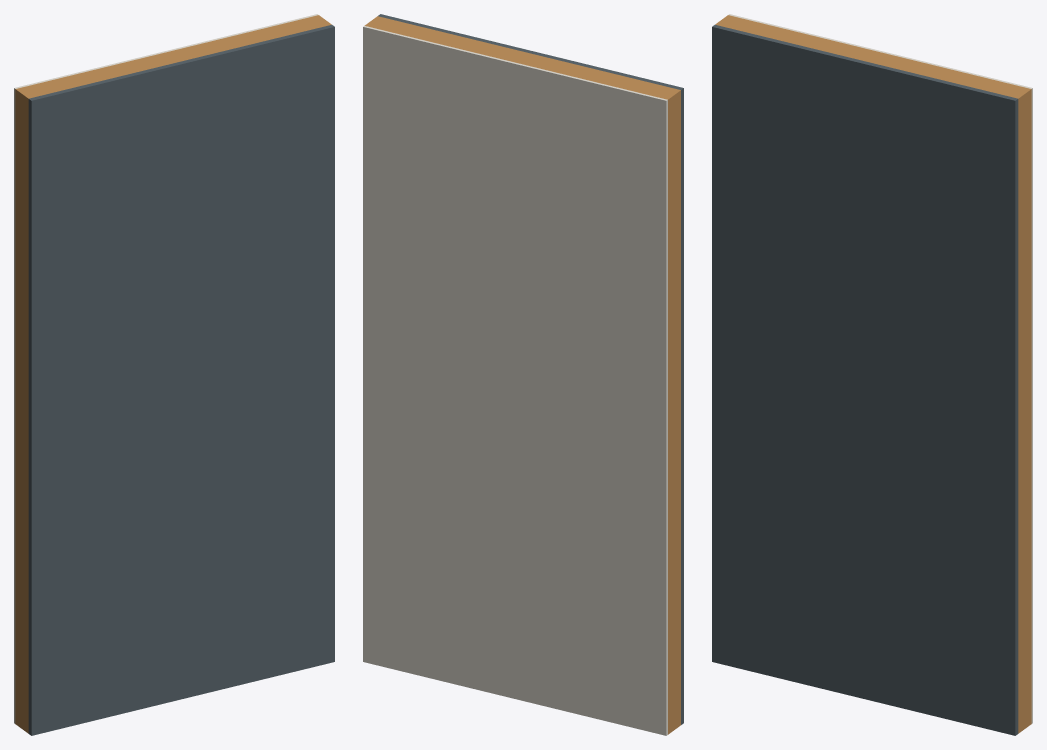
Rendered from Wall.glb.
3 renders of one model, left to right at view 1: azimuth 30°, elevation 25°; view 2: azimuth 150°, elevation 25°; view 3: azimuth 330°, elevation 25°, orthographic.
Parts seen in each view (by area): view 1: Steel cladding, Steel cladding.001, Stud, Top plate, Cladding rib.011, Cladding rib.009, Cladding rib.015, Cladding rib.001, Cladding rib.004, Cladding rib, Cladding rib.010, Cladding rib.003 (+13 smaller); view 2: Plasterboard, Plasterboard.001, Stud, Top plate, Steel cladding; view 3: Steel cladding, Steel cladding.001, Stud.003, Top plate, Cladding rib.008, Cladding rib.004, Cladding rib.005, Cladding rib, Cladding rib.001, Cladding rib.015, Cladding rib.012, Cladding rib.002 (+13 smaller).
Boxes of the visible parts, x1=… form: Steel cladding: x1=28, y1=24, x2=334, y2=735; Steel cladding.001: x1=31, y1=67, x2=167, y2=735; Stud: x1=15, y1=101, x2=28, y2=721; Top plate: x1=15, y1=15, x2=331, y2=110; Cladding rib.011: x1=203, y1=57, x2=208, y2=693; Cladding rib.009: x1=173, y1=64, x2=177, y2=701; Cladding rib.015: x1=264, y1=42, x2=268, y2=678; Cladding rib.001: x1=52, y1=94, x2=56, y2=730; Cladding rib.004: x1=97, y1=83, x2=101, y2=719; Cladding rib: x1=37, y1=98, x2=41, y2=734; Cladding rib.010: x1=188, y1=61, x2=192, y2=697; Cladding rib.003: x1=82, y1=87, x2=86, y2=722; Plasterboard: x1=363, y1=26, x2=667, y2=735; Plasterboard.001: x1=530, y1=66, x2=666, y2=734; Stud: x1=668, y1=102, x2=680, y2=722; Top plate: x1=364, y1=16, x2=680, y2=111; Steel cladding: x1=378, y1=14, x2=683, y2=724; Steel cladding: x1=712, y1=25, x2=1018, y2=735; Steel cladding.001: x1=712, y1=25, x2=848, y2=676; Stud.003: x1=1018, y1=101, x2=1031, y2=721; Top plate: x1=715, y1=15, x2=1031, y2=110; Cladding rib.008: x1=838, y1=57, x2=843, y2=693; Cladding rib.004: x1=778, y1=42, x2=782, y2=678; Cladding rib.005: x1=793, y1=46, x2=797, y2=682; Cladding rib: x1=717, y1=28, x2=721, y2=664; Cladding rib.001: x1=732, y1=31, x2=736, y2=667; Cladding rib.015: x1=945, y1=83, x2=949, y2=719; Cladding rib.012: x1=899, y1=72, x2=903, y2=708; Cladding rib.002: x1=747, y1=35, x2=752, y2=671.
Bounding box in the file's own units: 1.2 × 2.4 × 0.12.
